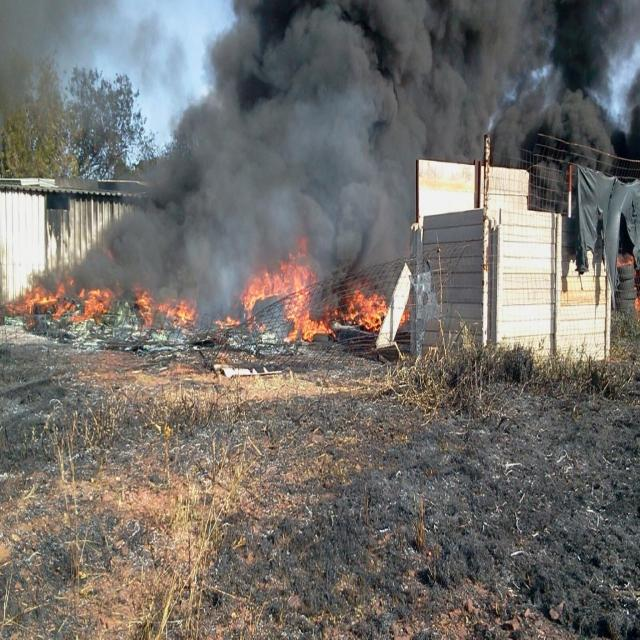fire: (249, 267, 312, 347), (79, 287, 110, 321), (14, 286, 53, 310)
smoke: (203, 107, 387, 231)
